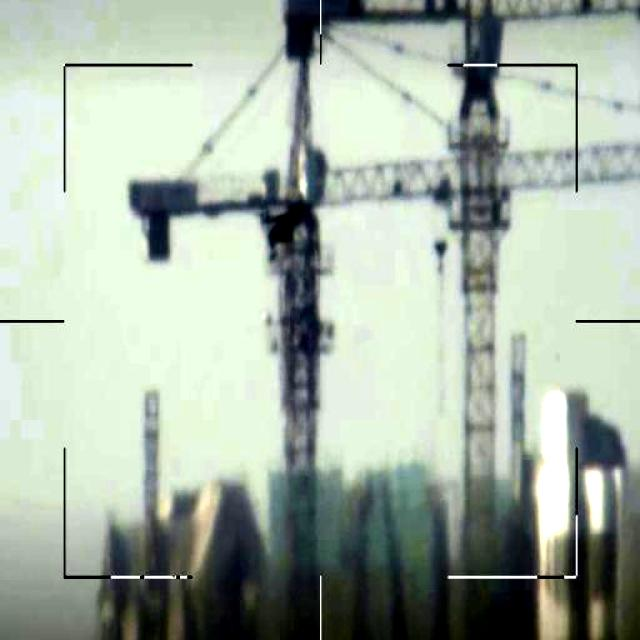bird: (258, 199, 309, 262)
